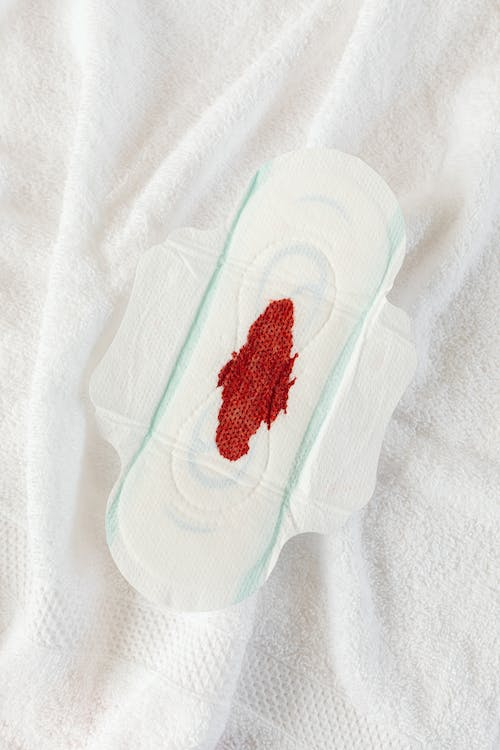blood: (210, 296, 300, 462)
